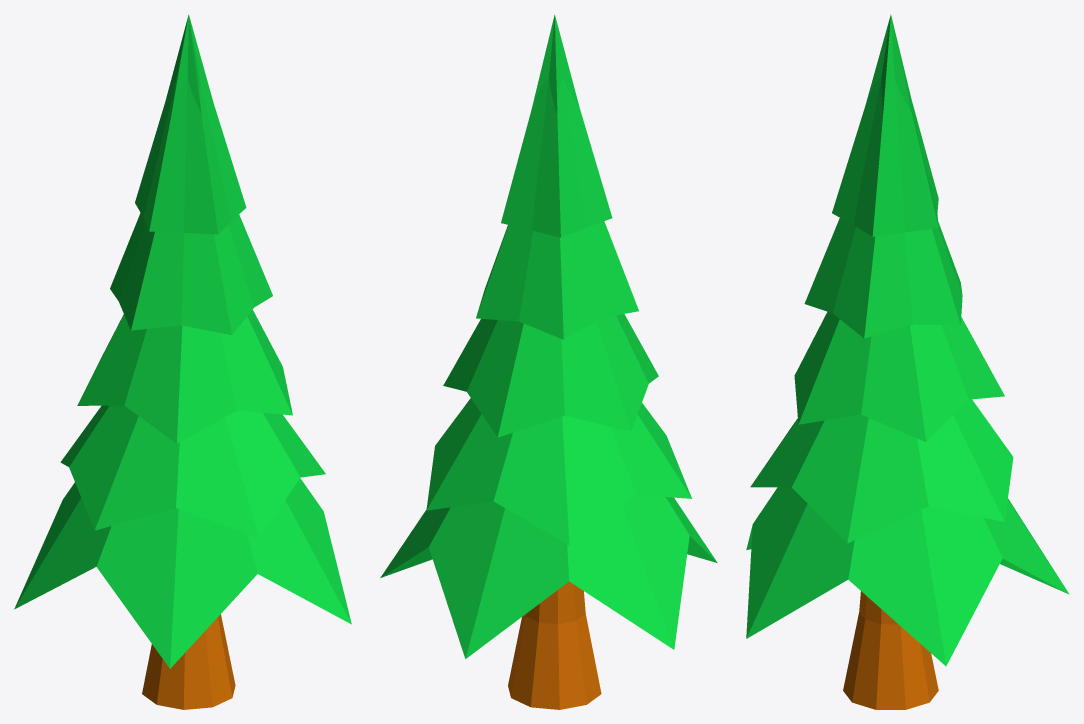
Rendered from Arvore_4_.fbx.
3 views of the same model, side by side, from view 1: azimuth 30°, elevation 25°; view 2: azimuth 150°, elevation 25°; view 3: azimuth 270°, elevation 25° (orthographic).
Visible parts, largest first — view 1: Cylinder, Cylinder.001; view 2: Cylinder, Cylinder.001; view 3: Cylinder, Cylinder.001.
Boxes of the visible parts, <box> form: Cylinder: <box>14,14,351,668</box>; Cylinder.001: <box>142,614,235,709</box>; Cylinder: <box>380,14,717,658</box>; Cylinder.001: <box>508,581,601,709</box>; Cylinder: <box>746,14,1069,666</box>; Cylinder.001: <box>843,591,938,709</box>.
Size of the model in its own units: 412 by 905 by 392.
